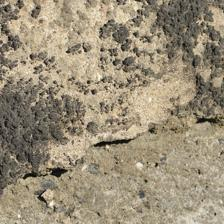Crack: (4, 66, 145, 127)
